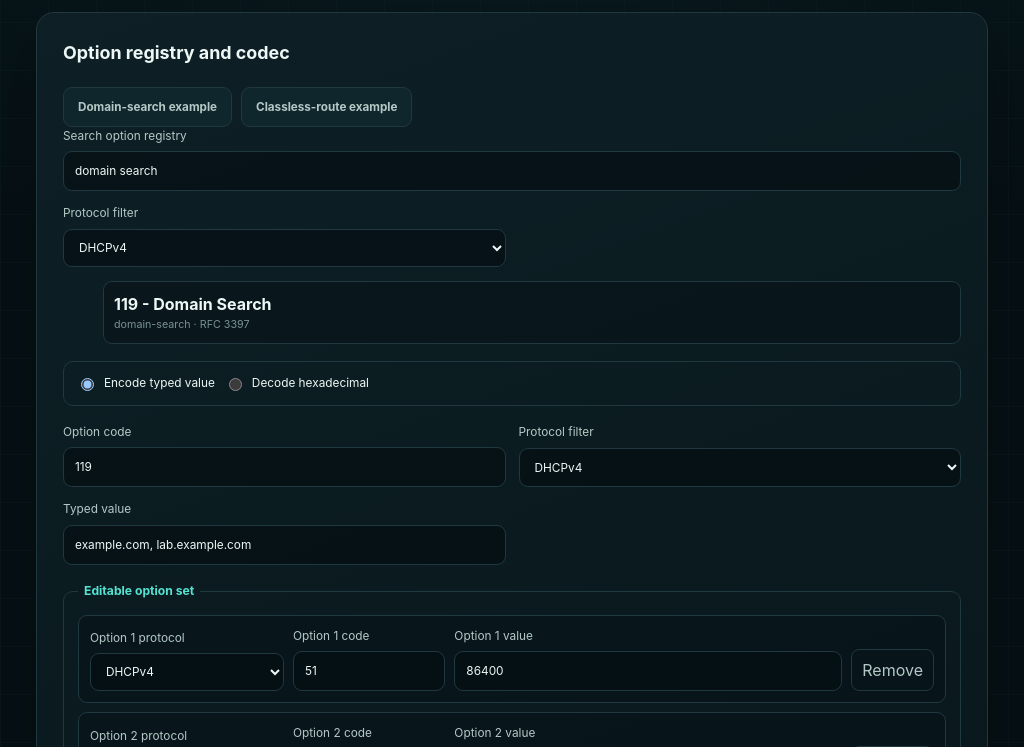
Test: DHCPulse Workbench › encodes the domain-search example and reports malformed hexadecimal data
This screenshot has width=1024, height=747.
(page scrolled)
Click the radio button labelled "Decode hexadecimal" at x=235, y=385, box [229,378,242,391]
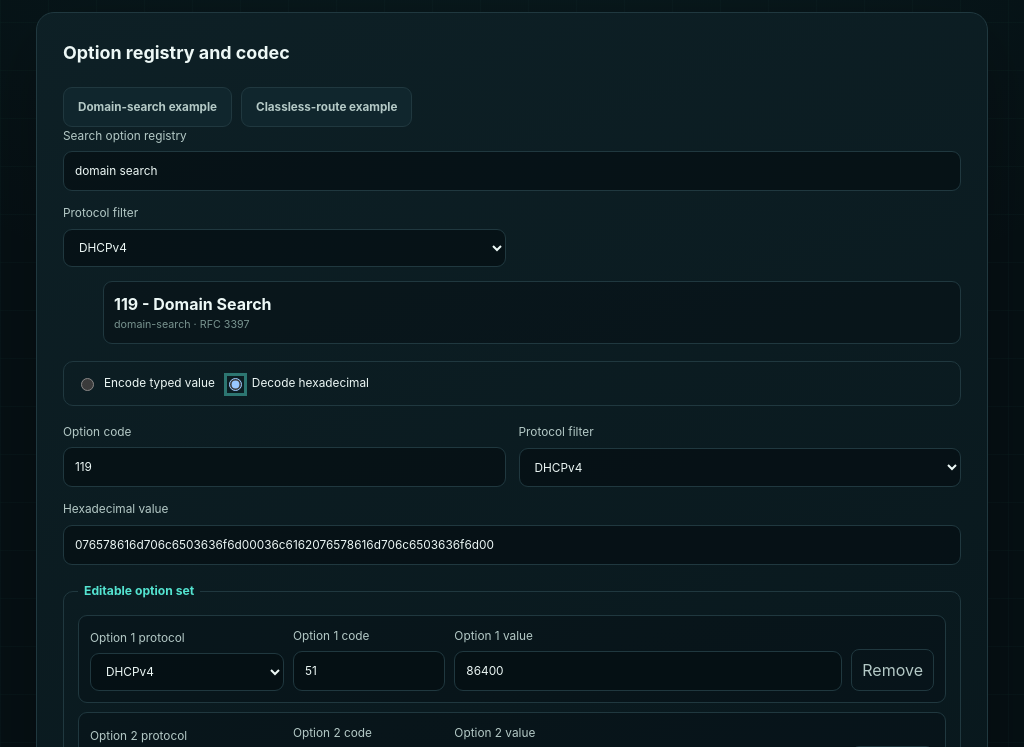
Replace the text in the field labelled "Hexadecimal value" with "zz" at x=512, y=545, box [63,525,961,565]
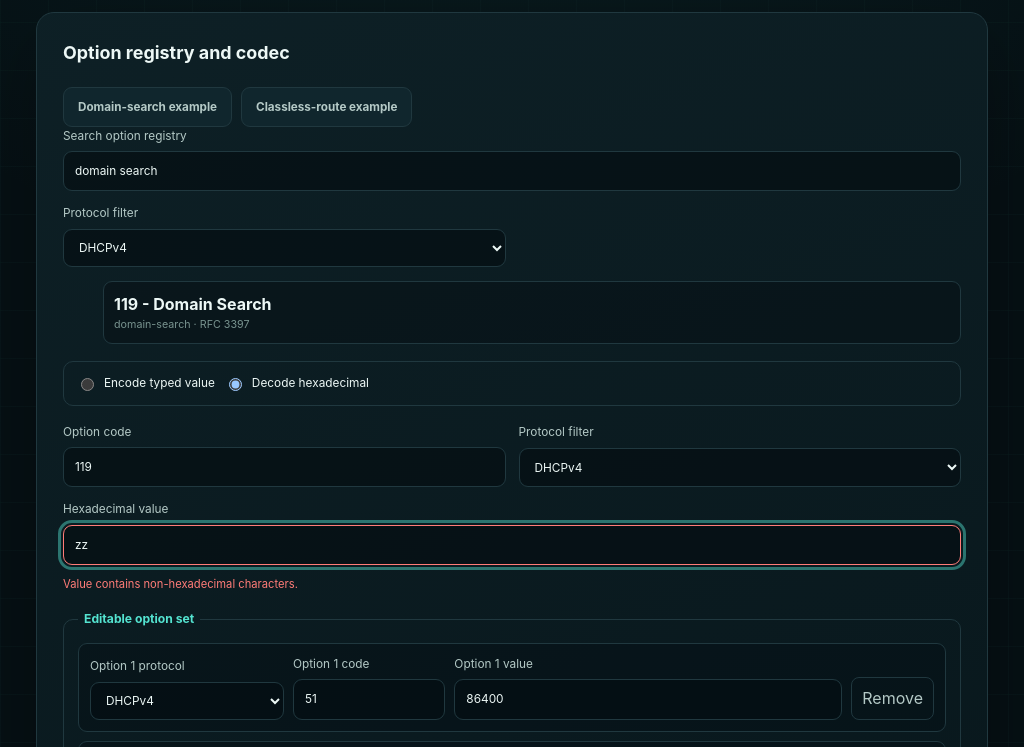
Expected: the text "Value contains non-hexadecimal characters." is shown, [63,577,298,591]
